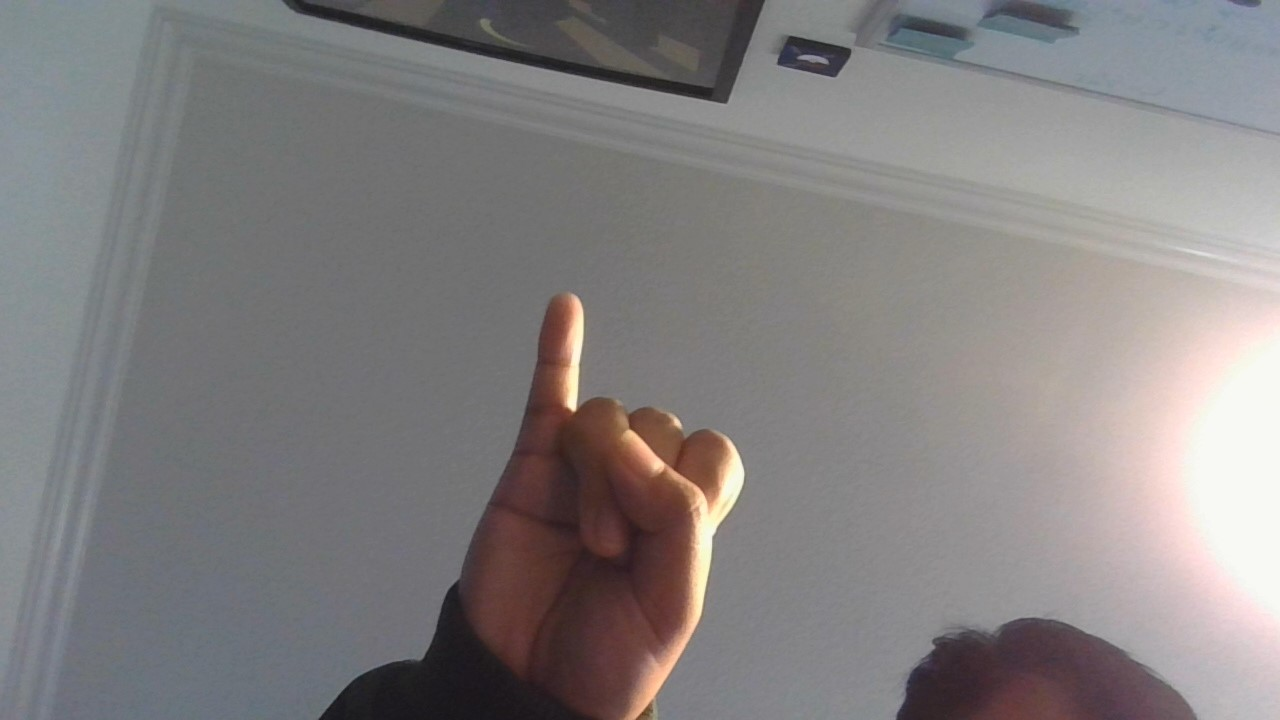i: (391, 230, 773, 720)
